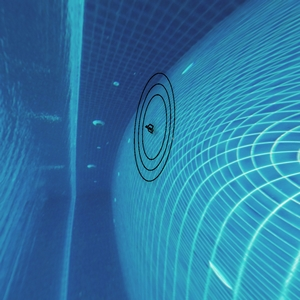circle: (130, 69, 184, 197)
submarine: (144, 124, 154, 133)
